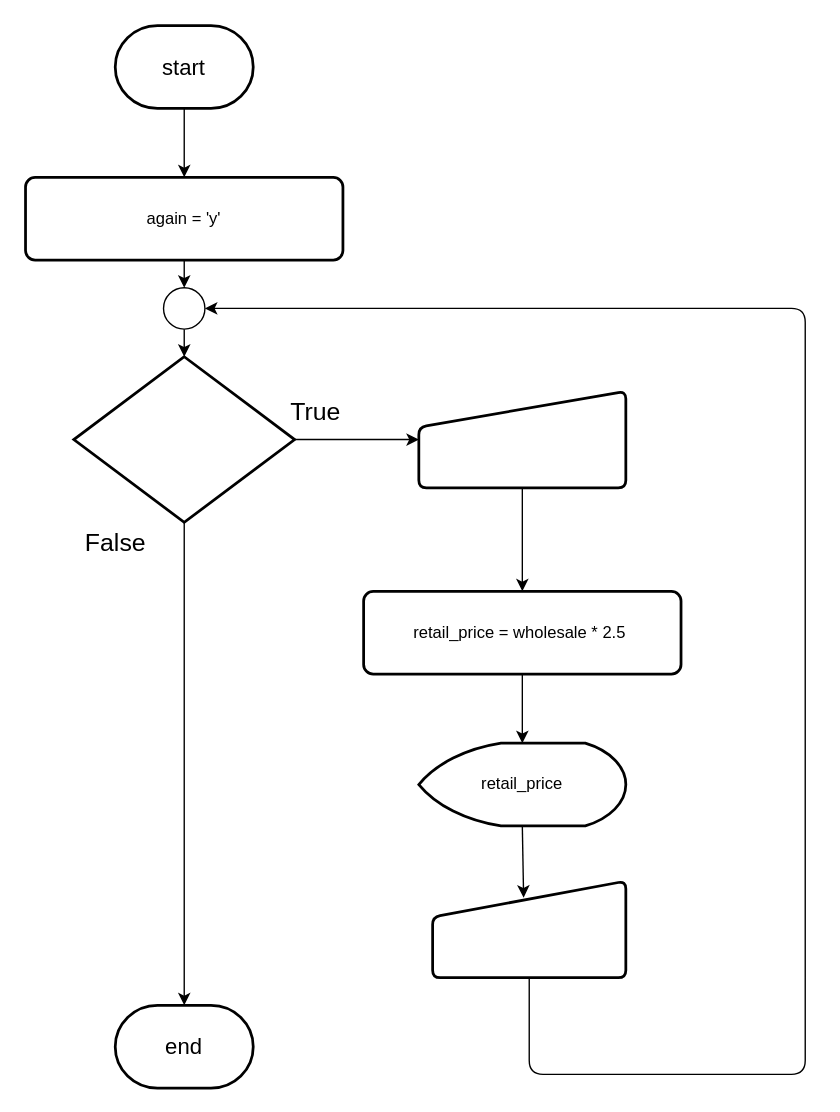
Image size: 840x1112. Some labels were removed from this diagram. Each missing label, with the centre of its shape:
again: the point at 529,928
again == 'y': the point at 183,439
wholesale: the point at 522,439
